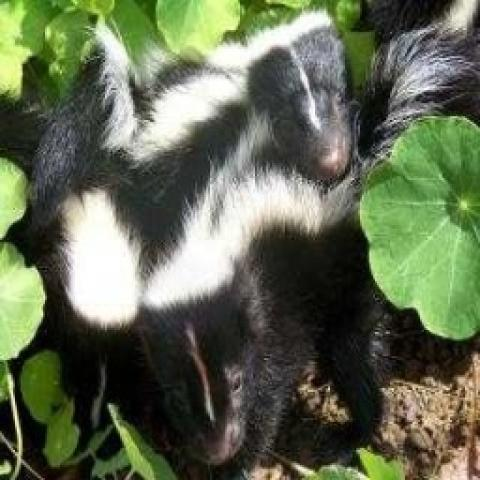small_animal: (136, 22, 480, 468), (19, 4, 345, 412)
